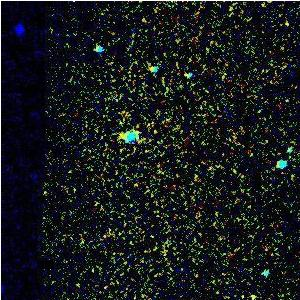star: (108, 122, 138, 152)
